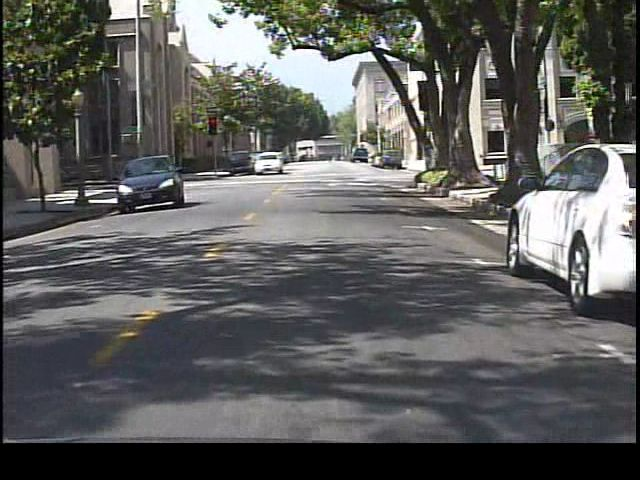car: (500, 135, 640, 320), (112, 160, 194, 211), (255, 150, 283, 175), (377, 148, 406, 169)
